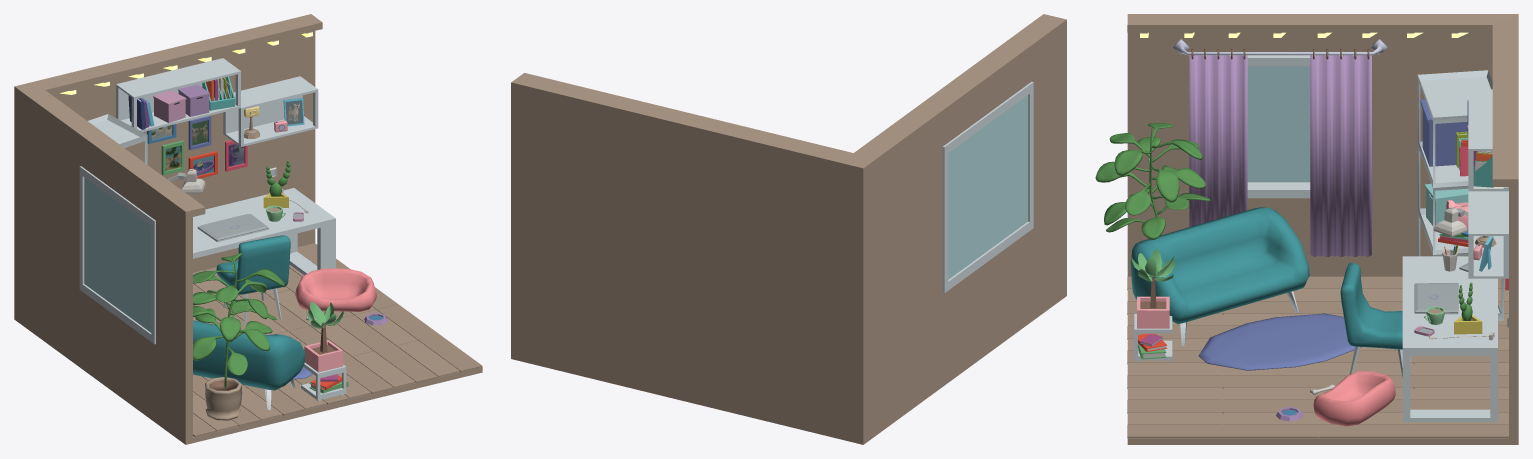
The picture shows the model from 3 angles, left to right: view 1: azimuth 30°, elevation 25°; view 2: azimuth 150°, elevation 25°; view 3: azimuth 270°, elevation 25°; orthographic projection. The views are drawn at different scales.
Parts seen in each view (by area): view 1: Room_33, Window_15, Floor_1_31, Floor_2_32, Shelf_13, flower big_22, table_6, Sofa_11, object 1, Dog_bed_14, chair_8, Palm_7 (+7 smaller); view 2: Room_33, Window_15; view 3: Room_33, Curtains_24, Floor_1_31, Floor_2_32, Sofa_11, Window_15, rack_10, table_6, carpet_26, flower big_22, Shelf_13, Dog_bed_14 (+7 smaller).
Part boxes in pixels (<box>): Room_33: <box>14,14,482,444</box>; Window_15: <box>79,166,155,344</box>; Floor_1_31: <box>193,243,482,436</box>; Floor_2_32: <box>193,264,459,431</box>; Shelf_13: <box>116,58,318,146</box>; flower big_22: <box>193,253,284,420</box>; table_6: <box>193,188,335,275</box>; Sofa_11: <box>193,320,304,409</box>; object 1: <box>147,98,304,178</box>; Dog_bed_14: <box>295,268,387,325</box>; chair_8: <box>216,235,290,325</box>; Palm_7: <box>301,302,346,401</box>; Room_33: <box>511,14,1066,444</box>; Window_15: <box>942,81,1033,293</box>; Room_33: <box>1127,14,1518,444</box>; Curtains_24: <box>1173,39,1387,256</box>; Floor_1_31: <box>1127,276,1508,438</box>; Floor_2_32: <box>1128,289,1508,424</box>; Sofa_11: <box>1130,207,1309,346</box>; Window_15: <box>1203,55,1356,198</box>; rack_10: <box>1417,70,1504,320</box>; table_6: <box>1402,256,1497,422</box>; carpet_26: <box>1198,313,1361,370</box>; flower big_22: <box>1095,122,1210,239</box>; Shelf_13: <box>1468,89,1508,278</box>; Dog_bed_14: <box>1276,370,1395,426</box>.
Size of the model in its own units: 8.25 by 6.15 by 8.87.
Materials: 43 (1 with a texture image).
